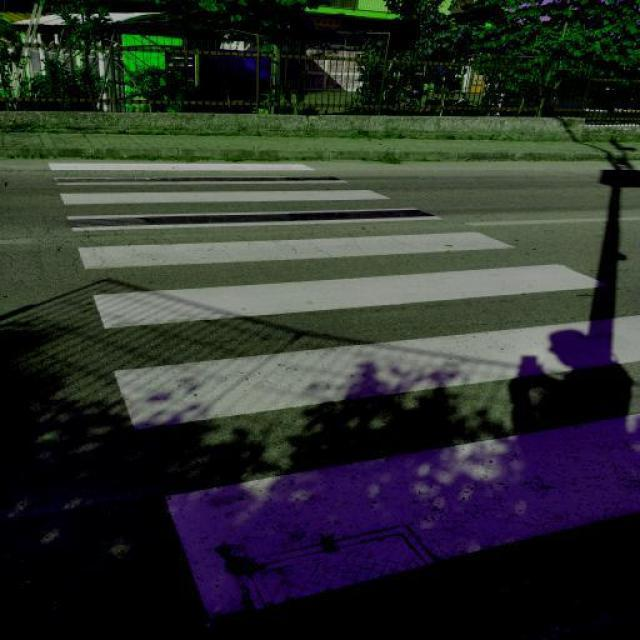crosswalk: (49, 161, 640, 622)
